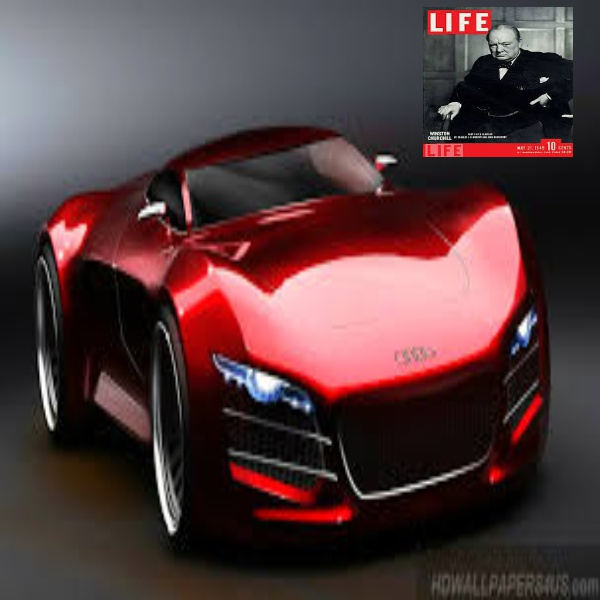time_cover: (422, 2, 579, 157)
